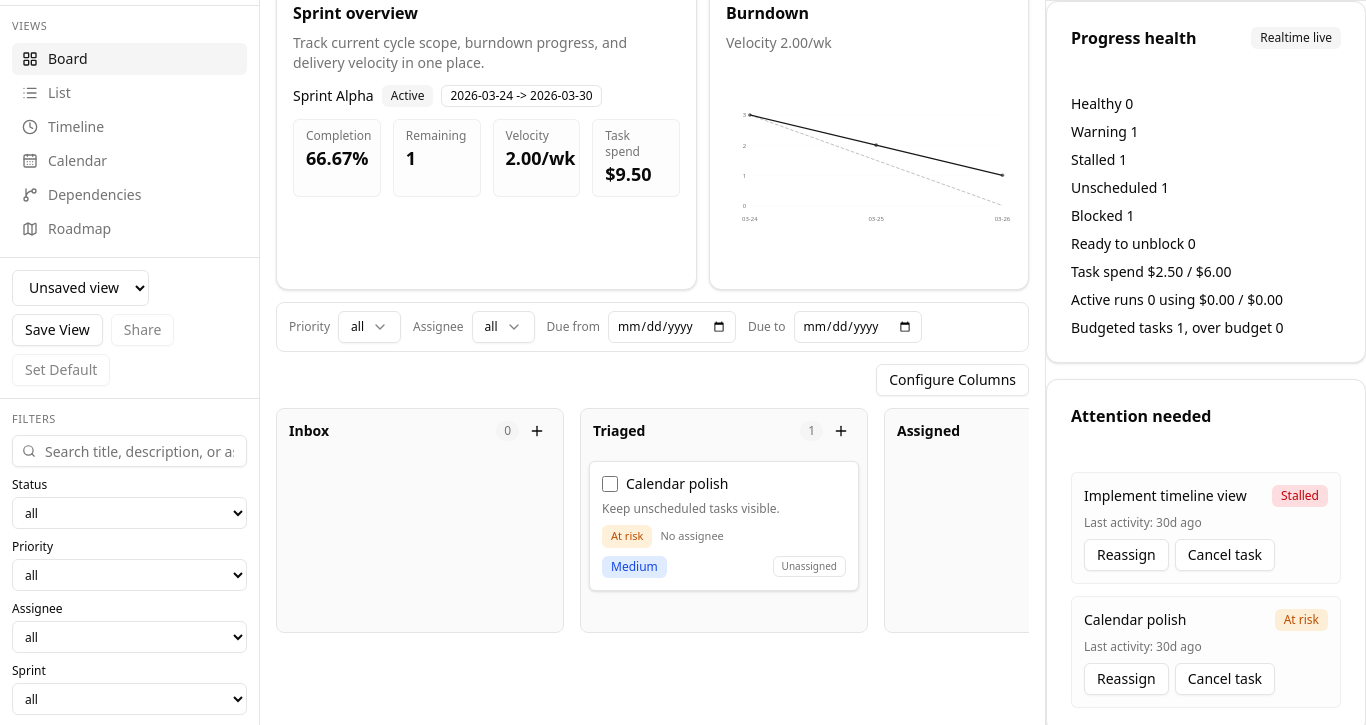
ProjectTaskWorkspace › shows inline feedback when a calendar scheduling update fails
Click the button "Calendar". click: (130, 160)
box: [12,144,247,176]
(page scrolled)
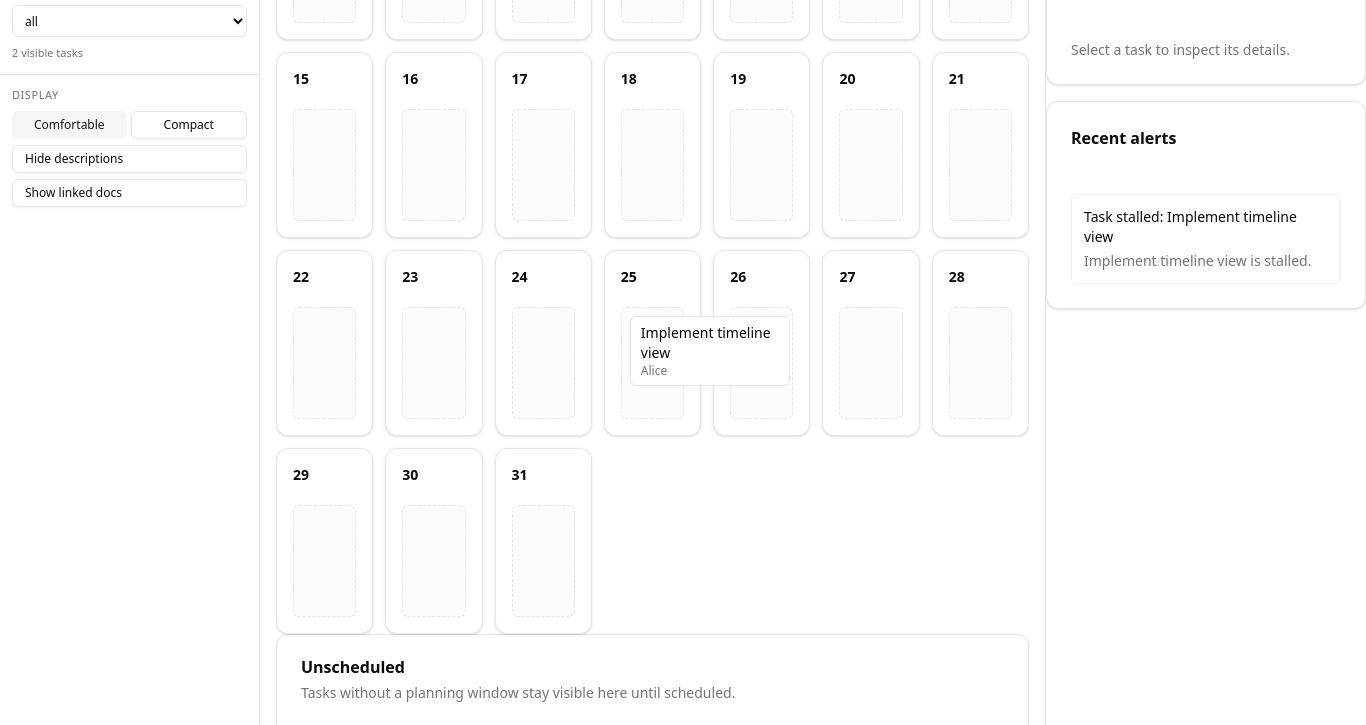
Result: the text "Implement timeline view" is shown at [641,323,779,363]
